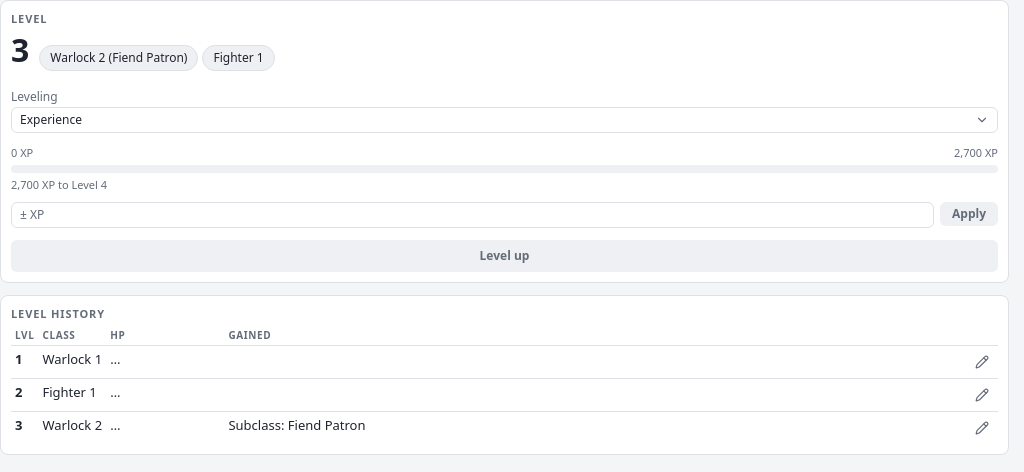
Test: LevelSection › saves a picked leveling mode
This screenshot has width=1024, height=472.
Click the dropdown named "Leveling": (51,119) top-left (11, 106), bottom-right (998, 132)
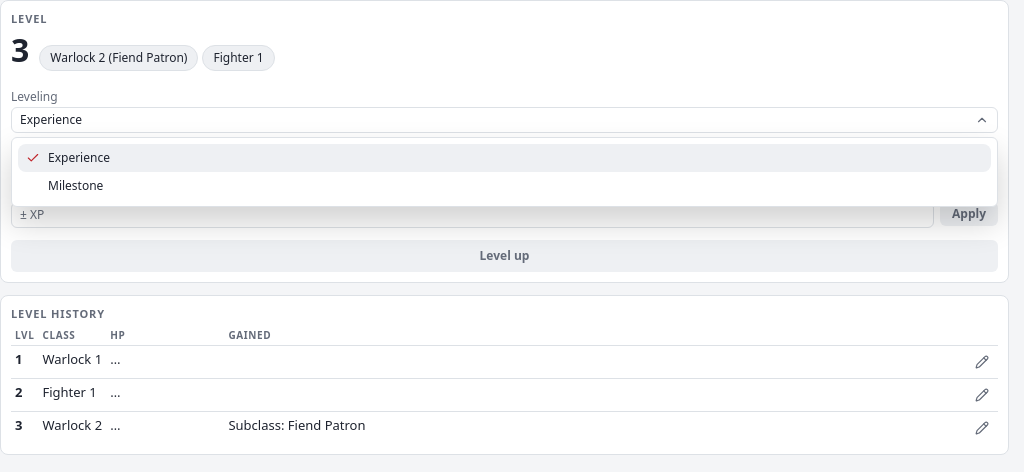
Click the option "Milestone": (76,185) top-left (48, 176), bottom-right (103, 194)
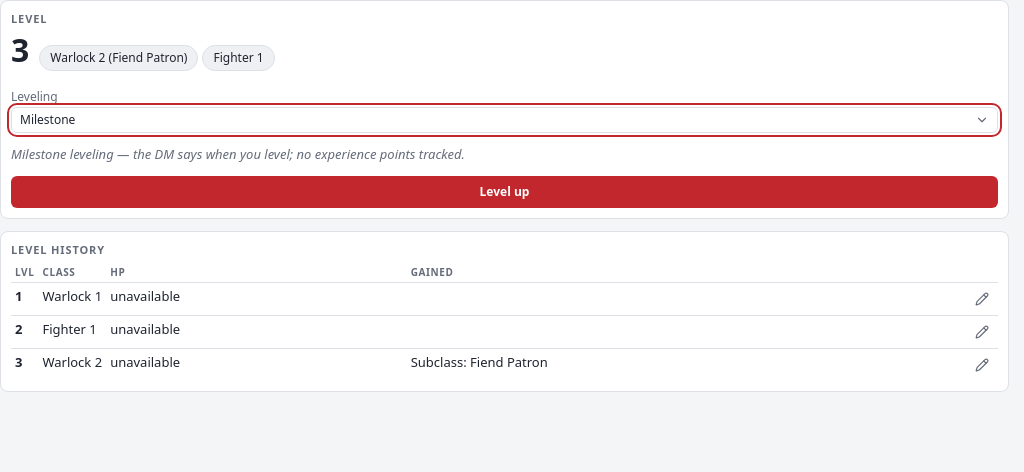
Check: the text "Milestone leveling" is shown, box top-left (11, 144), bottom-right (465, 162)
